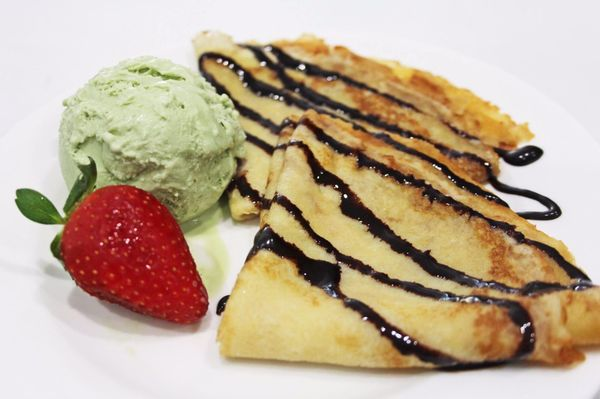sushi: (200, 34, 600, 371)
